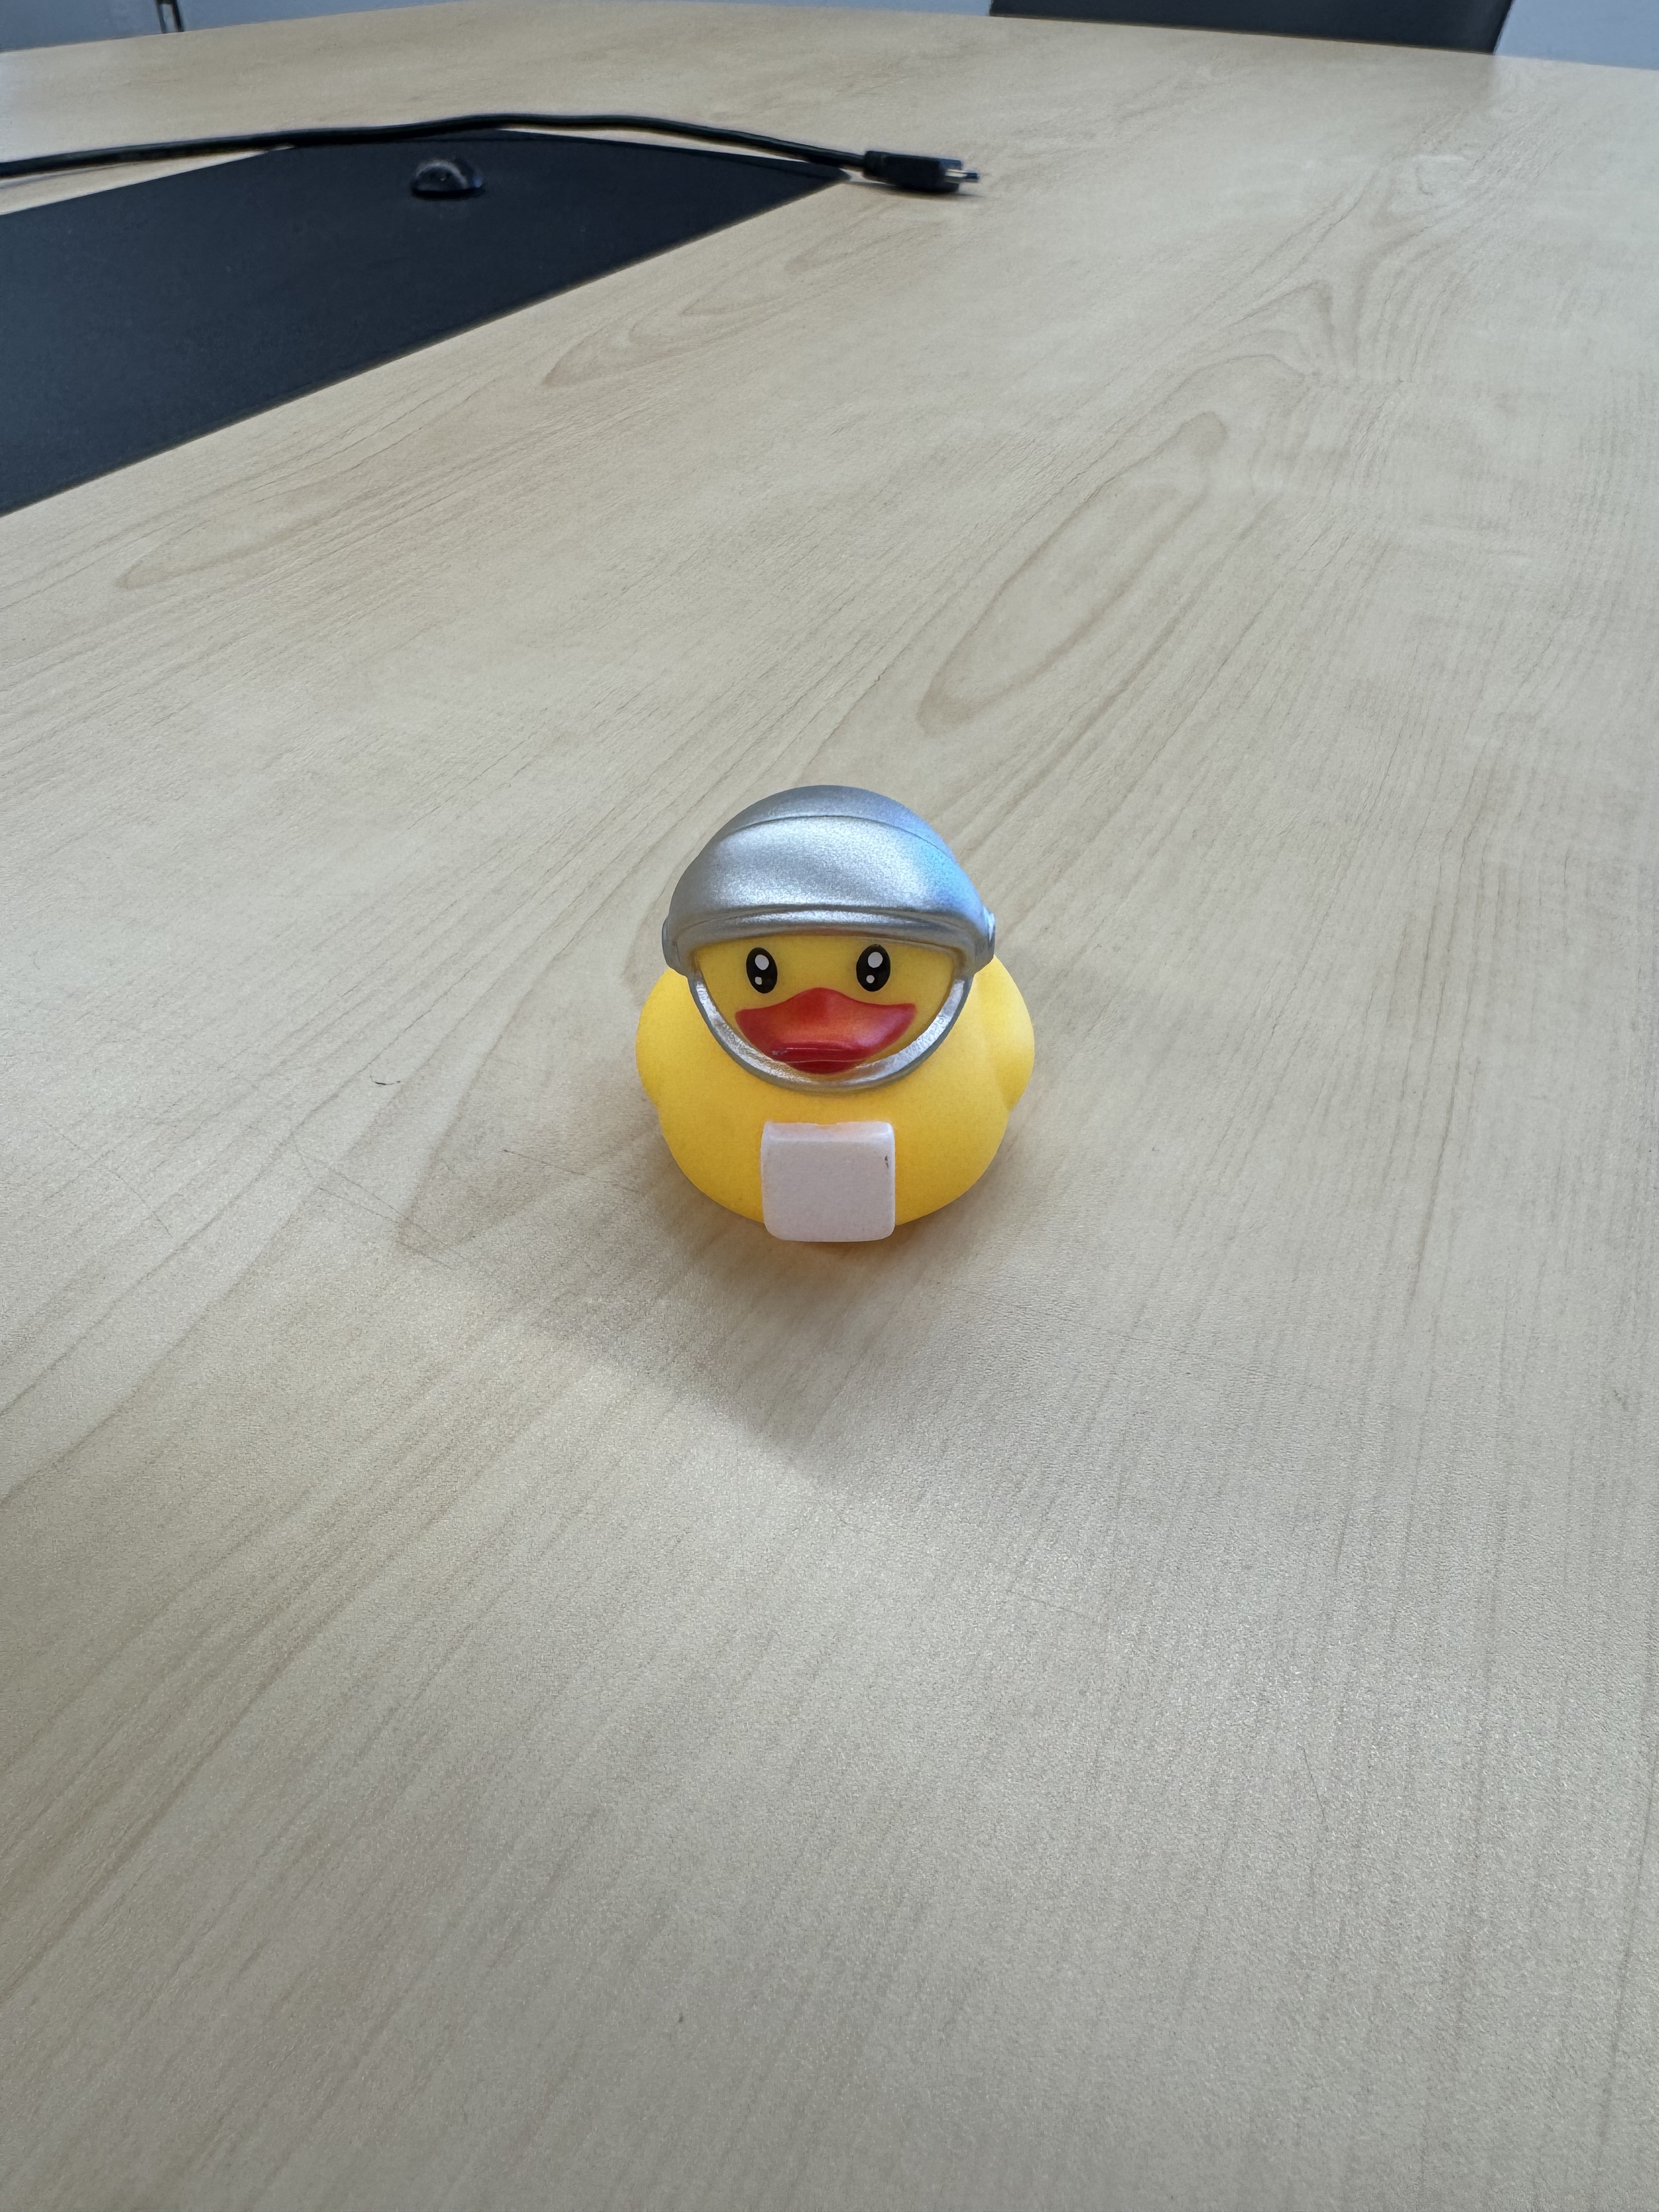duck_specialty: (631, 765, 1056, 1256)
